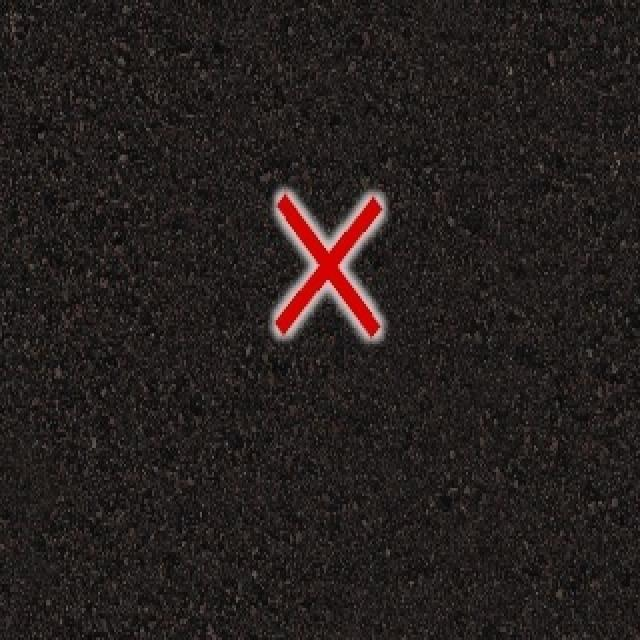x_marker: (275, 193, 381, 335)
